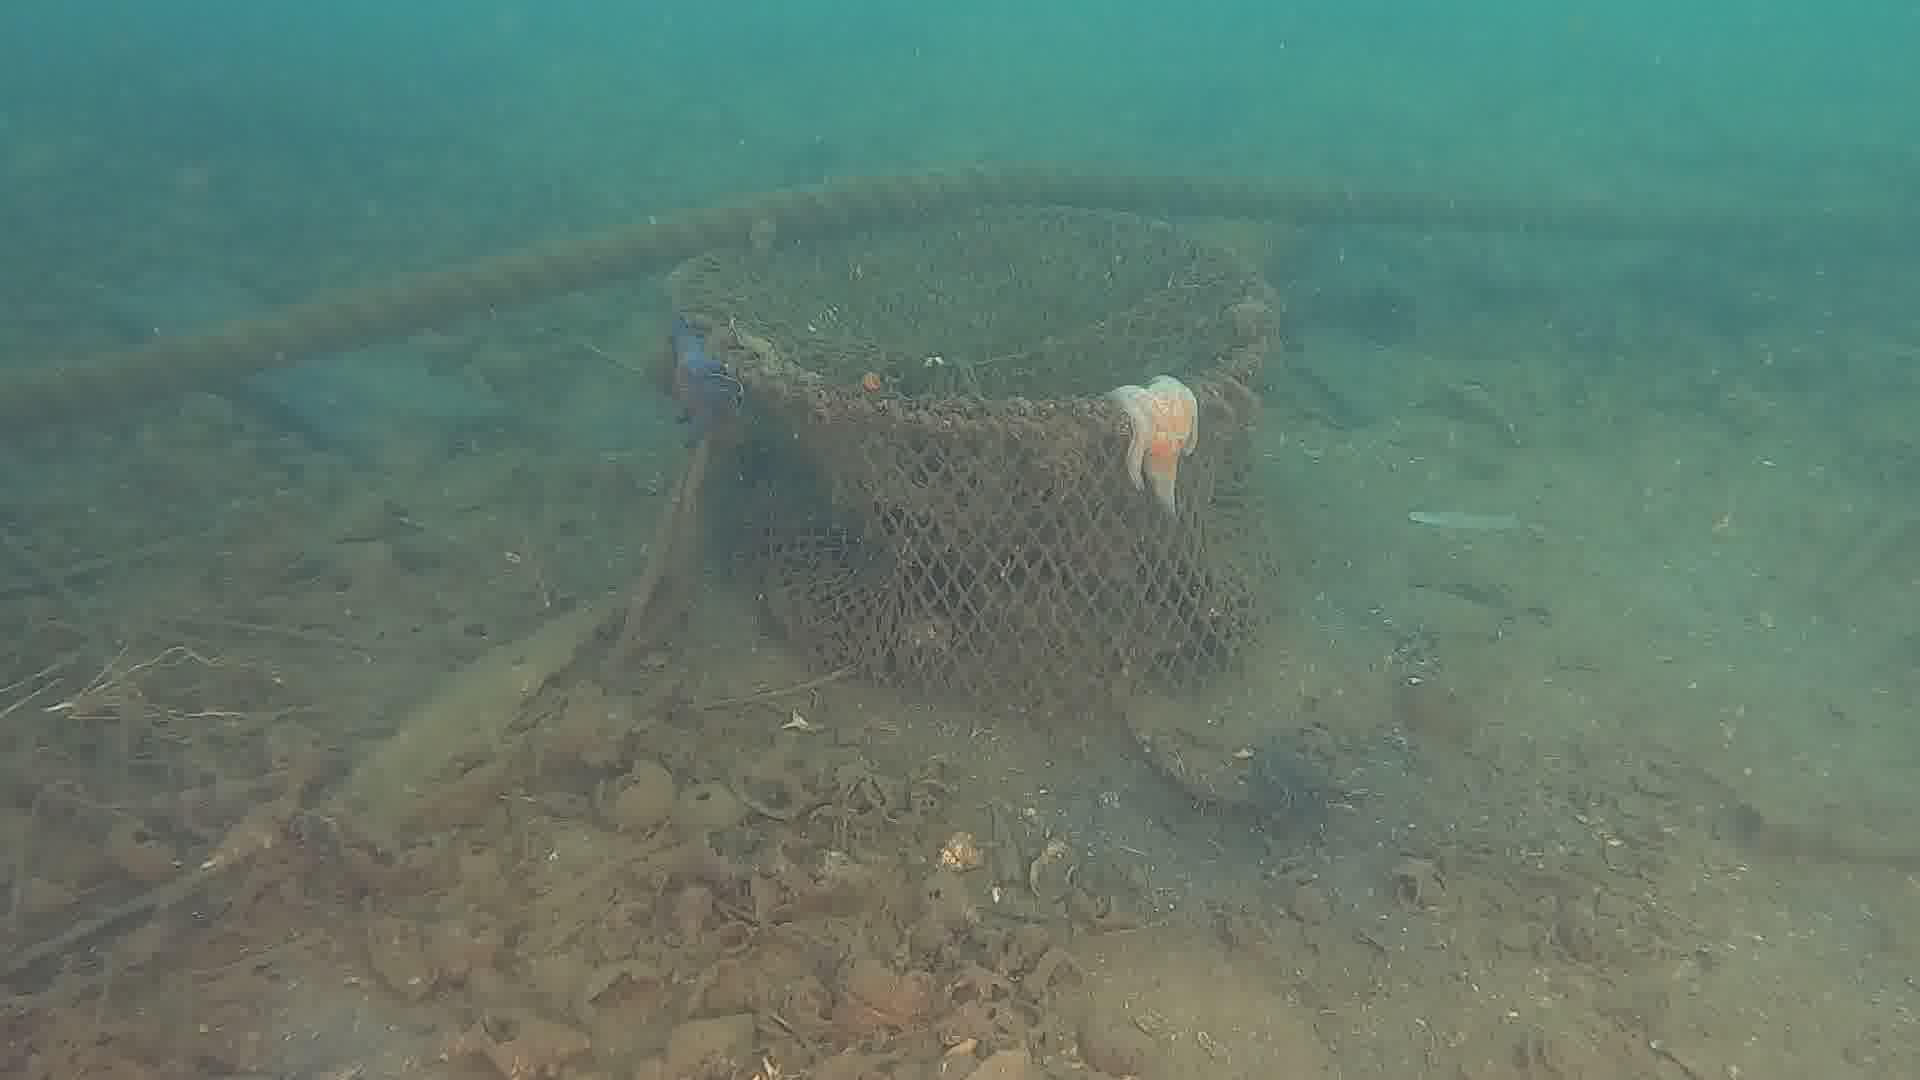circular fish trap: (655, 202, 1291, 725)
rope: (0, 150, 1320, 454)
